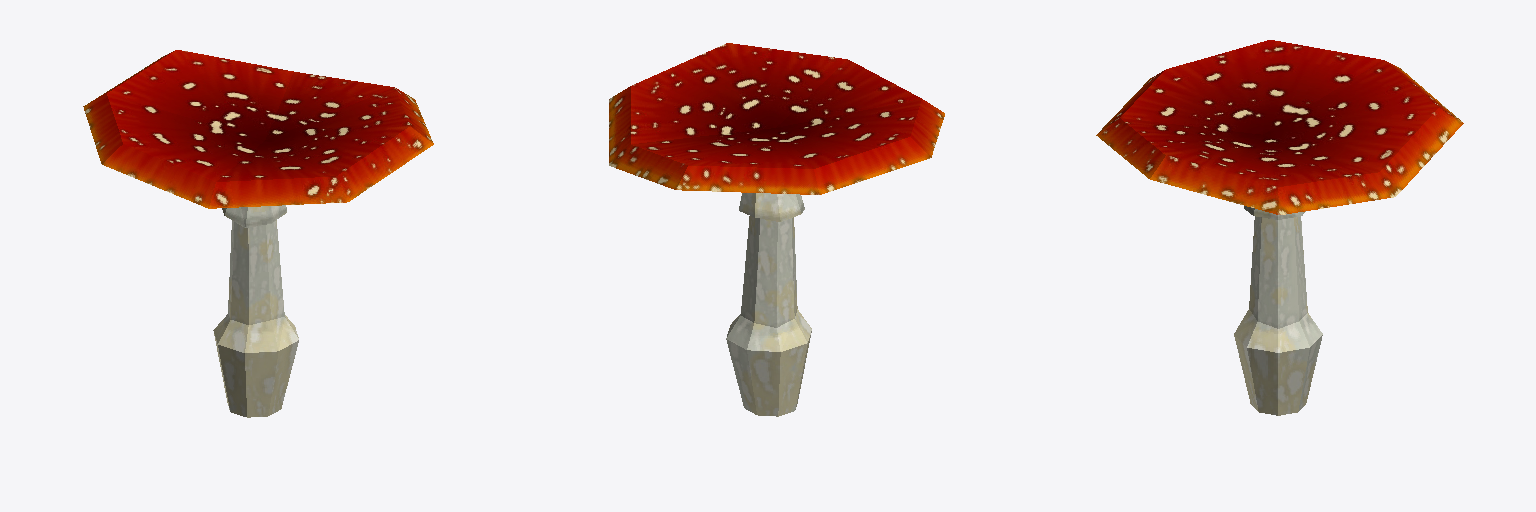
3 views of the same model, side by side, from view 1: azimuth 30°, elevation 25°; view 2: azimuth 150°, elevation 25°; view 3: azimuth 270°, elevation 25° (orthographic).
Parts seen in each view (by area): view 1: amanita_A_low; view 2: amanita_A_low; view 3: amanita_A_low.
Part boxes in pixels (bbox=[...]): amanita_A_low: bbox=[83, 50, 433, 417]; amanita_A_low: bbox=[609, 43, 944, 416]; amanita_A_low: bbox=[1096, 40, 1463, 415].
Bounding box in the file's own units: 1.18 × 1.06 × 1.18.
Materials: 1 (1 with a texture image).